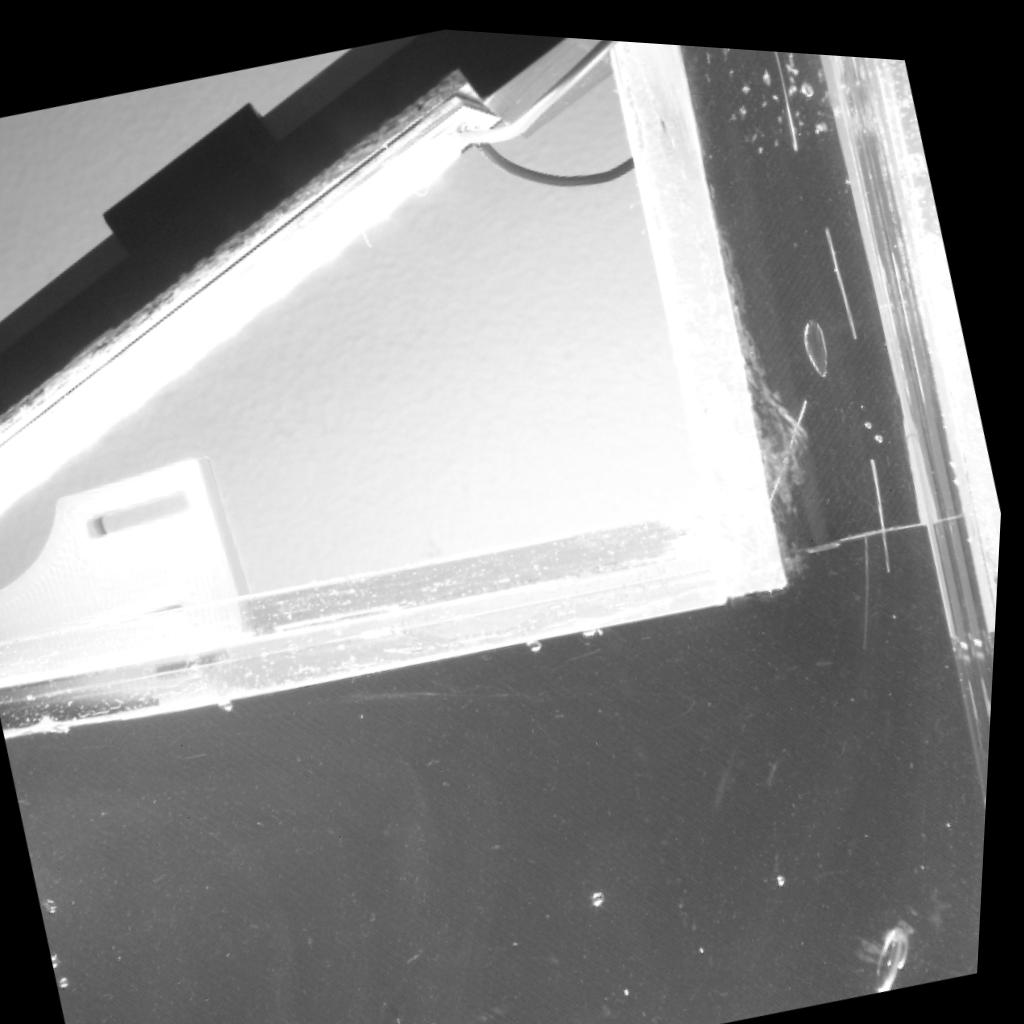Fiber: (769, 386, 816, 496), (823, 209, 863, 330), (868, 443, 900, 561), (770, 40, 803, 144), (862, 520, 880, 640)
